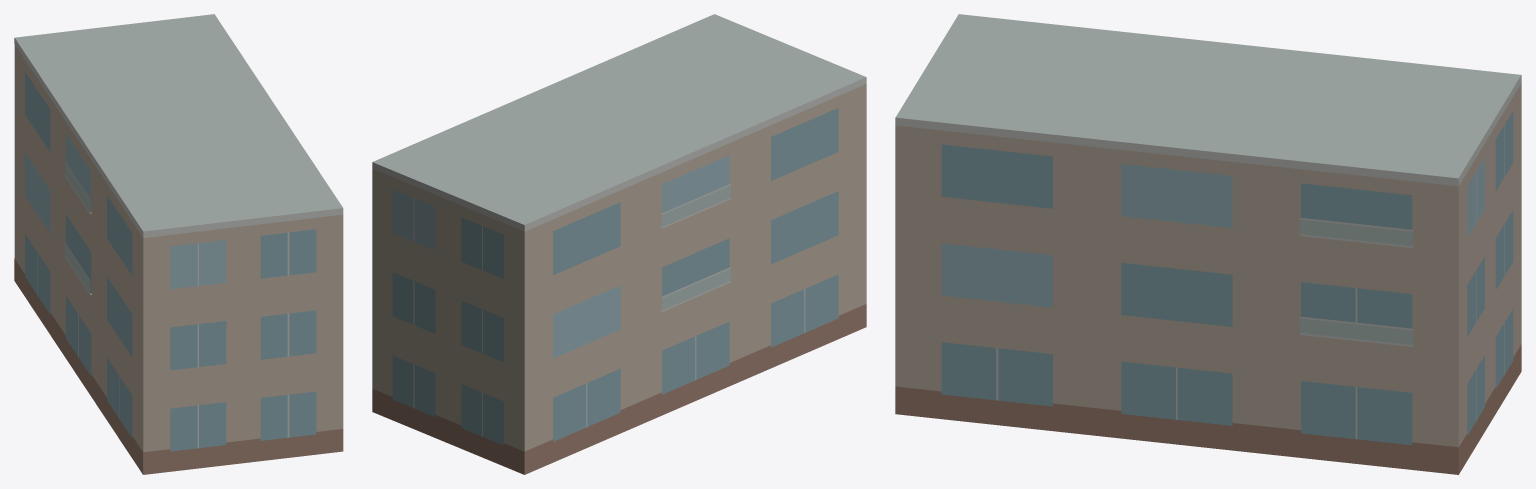
File: survey-upis-32823952.glb
The picture shows the model from 3 angles, left to right: view 1: azimuth 30°, elevation 25°; view 2: azimuth 150°, elevation 25°; view 3: azimuth 270°, elevation 25°; orthographic projection. The views are drawn at different scales.
Parts seen in each view (by area): view 1: survey-upis-32823952.tmp; view 2: survey-upis-32823952.tmp; view 3: survey-upis-32823952.tmp.
Boxes of the visible parts, bbox=[...] form: survey-upis-32823952.tmp: bbox=[14, 14, 343, 474]; survey-upis-32823952.tmp: bbox=[372, 14, 866, 474]; survey-upis-32823952.tmp: bbox=[895, 14, 1521, 474].
Bounding box in the file's own units: 10.89 × 9.15 × 17.52.
